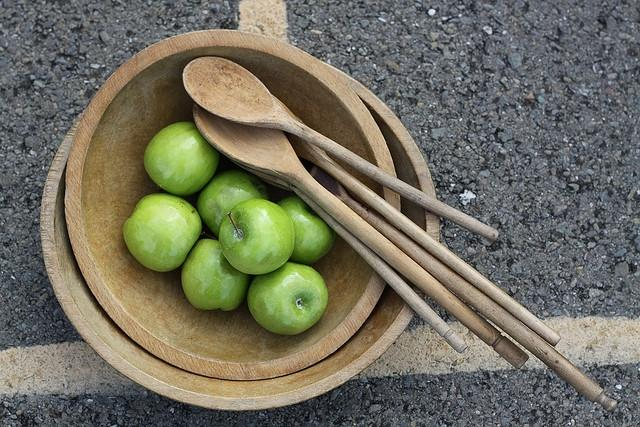apple: (124, 193, 202, 272), (247, 262, 329, 336), (218, 198, 294, 274), (144, 121, 220, 196), (181, 239, 251, 311), (197, 170, 271, 238), (276, 195, 336, 265)
